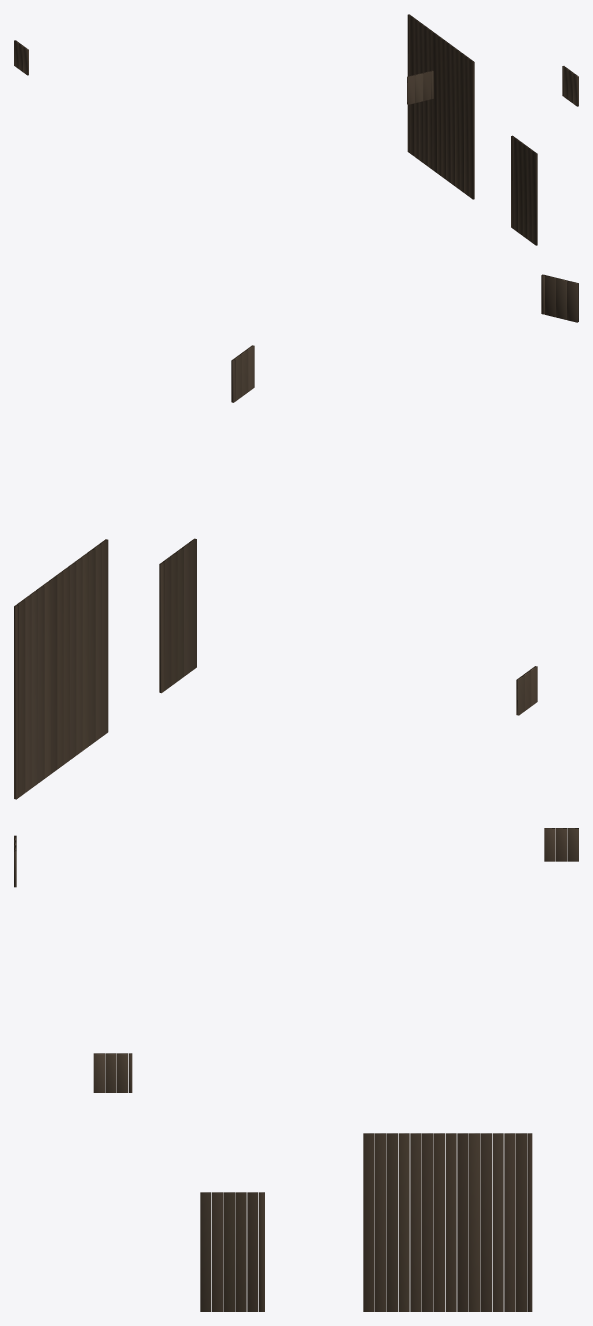
The model's file is SM_BarnWood_06.glb.
3 renders of one model, top to bottom at view 1: azimuth 30°, elevation 25°; view 2: azimuth 150°, elevation 25°; view 3: azimuth 270°, elevation 25°, orthographic. The views are drawn at different scales.
Parts seen in each view (by area): view 1: SM_BarnWood_06; view 2: SM_BarnWood_06; view 3: SM_BarnWood_06.
Boxes of the visible parts, box(x1,y1,x2,y2) form: SM_BarnWood_06: box(14, 14, 578, 245); SM_BarnWood_06: box(14, 274, 578, 799); SM_BarnWood_06: box(14, 828, 578, 1311).
Size of the model in its own units: 8.64 by 5.9 by 8.66.
